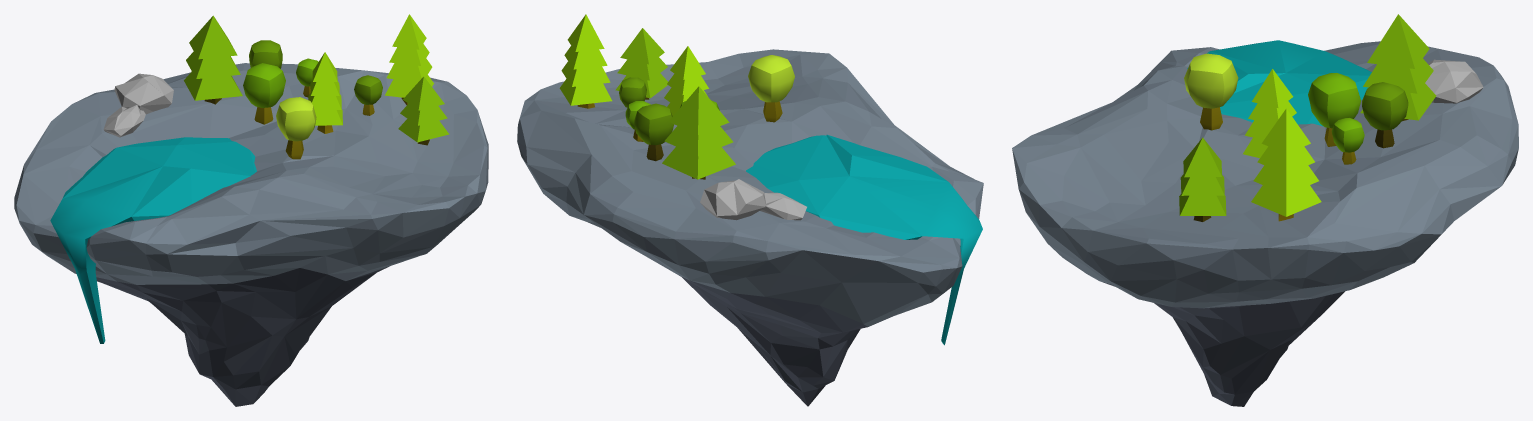
File: island_normal.fbx
3 renders of one model, left to right at view 1: azimuth 30°, elevation 25°; view 2: azimuth 150°, elevation 25°; view 3: azimuth 270°, elevation 25°, orthographic. The views are drawn at different scales.
Visible parts, largest first — view 1: island_Group1, pSphere17, polySurface16, pPyramid9, polySurface1, pPyramid10, polySurface15, polySurface14, pSphere16, pSphere18, polySurface7, polySurface12 (+1 smaller); view 2: island_Group1, pSphere17, polySurface16, pPyramid9, polySurface14, pSphere16, polySurface1, pPyramid10, polySurface12, pSphere18, polySurface7; view 3: island_Group1, pSphere17, pPyramid9, polySurface16, polySurface1, polySurface14, polySurface15, pPyramid10, polySurface12, pSphere16, polySurface9.
Boxes of the visible parts, <box> form: island_Group1: <box>14,63,488,406</box>; pSphere17: <box>50,137,256,343</box>; polySurface16: <box>184,15,242,104</box>; pPyramid9: <box>385,14,433,105</box>; polySurface1: <box>398,76,449,145</box>; pPyramid10: <box>308,52,342,133</box>; polySurface15: <box>243,63,285,124</box>; polySurface14: <box>276,97,316,159</box>; pSphere16: <box>114,73,173,114</box>; pSphere18: <box>103,105,145,137</box>; polySurface7: <box>354,75,382,115</box>; polySurface12: <box>249,40,282,68</box>; island_Group1: <box>517,49,983,406</box>; pSphere17: <box>746,134,982,345</box>; polySurface16: <box>662,86,735,179</box>; pPyramid9: <box>559,14,612,108</box>; polySurface14: <box>748,55,794,122</box>; pSphere16: <box>700,179,765,220</box>; polySurface1: <box>615,28,667,99</box>; pPyramid10: <box>664,46,708,116</box>; polySurface12: <box>634,103,673,161</box>; pSphere18: <box>760,192,806,220</box>; polySurface7: <box>619,77,646,107</box>; island_Group1: <box>1012,41,1518,406</box>; pSphere17: <box>1187,40,1371,126</box>; pPyramid9: <box>1251,108,1321,221</box>; polySurface16: <box>1360,14,1436,121</box>; polySurface1: <box>1179,137,1226,221</box>; polySurface14: <box>1184,53,1238,130</box>; polySurface15: <box>1308,73,1360,146</box>; pPyramid10: <box>1243,69,1296,158</box>; polySurface12: <box>1362,82,1408,148</box>; pSphere16: <box>1425,59,1483,103</box>; polySurface9: <box>1331,118,1364,164</box>.
Size of the model in its own units: 7.35 by 5.64 by 6.21.
